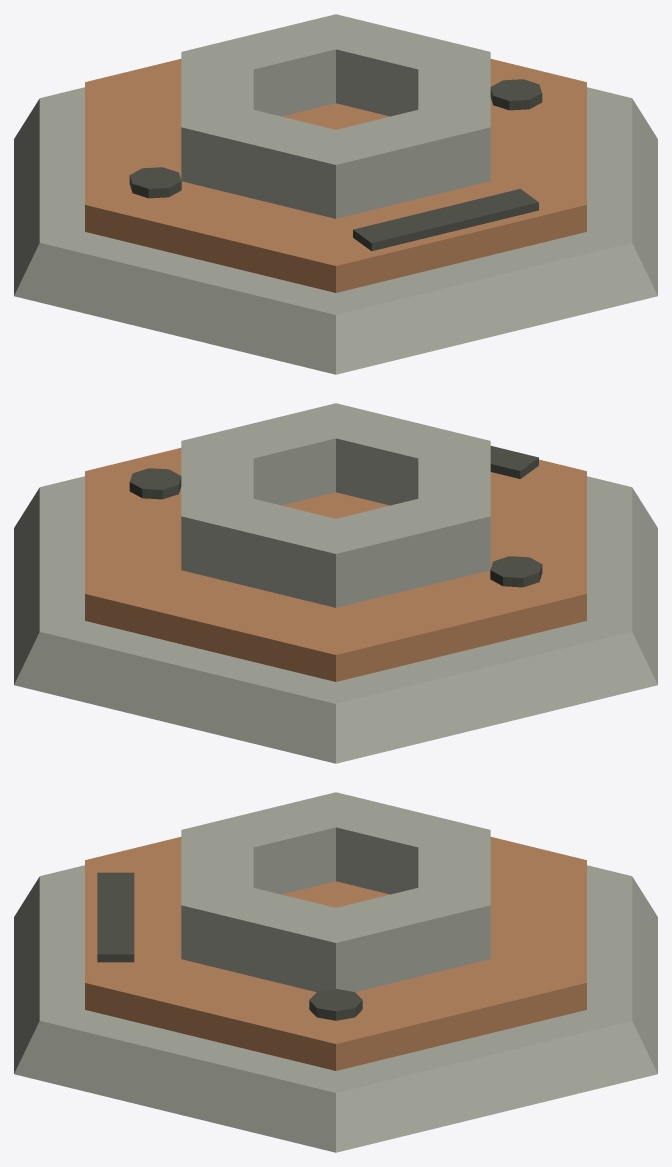
File: reclamation-yard-salvage-material-token__237.glb
3 renders of one model, top to bottom at view 1: azimuth 30°, elevation 25°; view 2: azimuth 150°, elevation 25°; view 3: azimuth 270°, elevation 25°, orthographic.
Parts seen in each view (by area): view 1: metal, accent, dark; view 2: metal, accent, dark; view 3: metal, accent, dark.
Part boxes in pixels (box(x1,y1,x2,y2)): metal: box(14, 14, 657, 374); accent: box(85, 59, 586, 292); dark: box(129, 79, 542, 251); metal: box(14, 403, 657, 763); accent: box(85, 448, 586, 681); dark: box(129, 446, 542, 587); metal: box(14, 792, 657, 1152); accent: box(85, 837, 586, 1070); dark: box(97, 872, 362, 1020).
Size of the model in its own units: 0.5 by 0.095 by 0.433.
